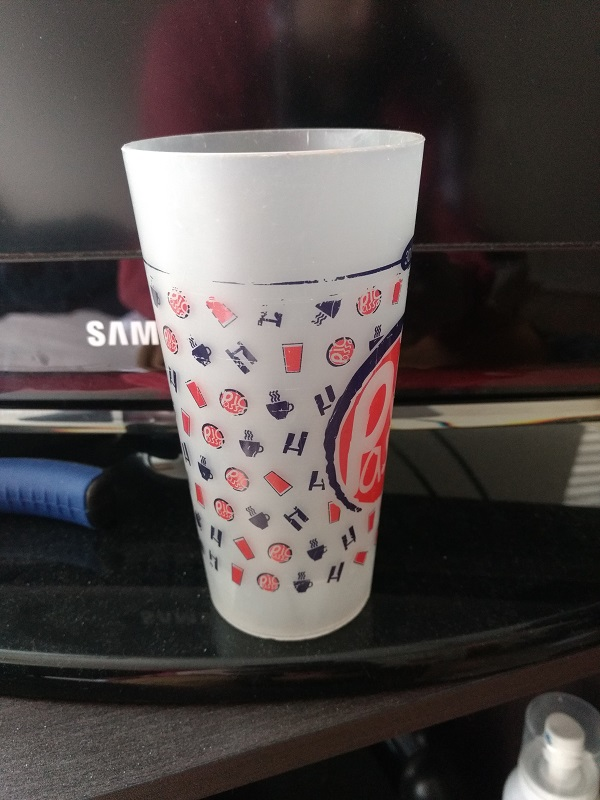ecocup: (120, 127, 427, 642)
